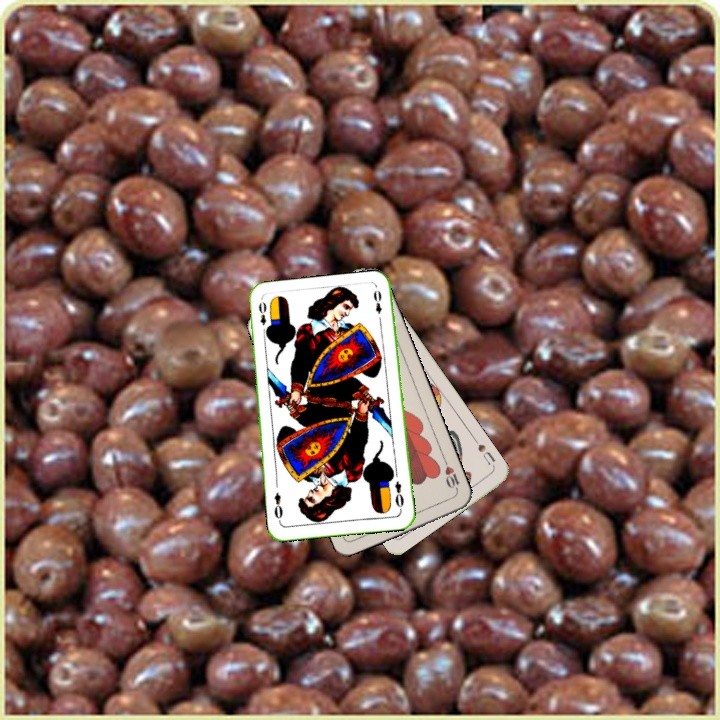EO: (255, 297, 271, 337), (391, 477, 406, 513)
H10: (440, 456, 462, 495)
SU: (469, 434, 498, 470)
